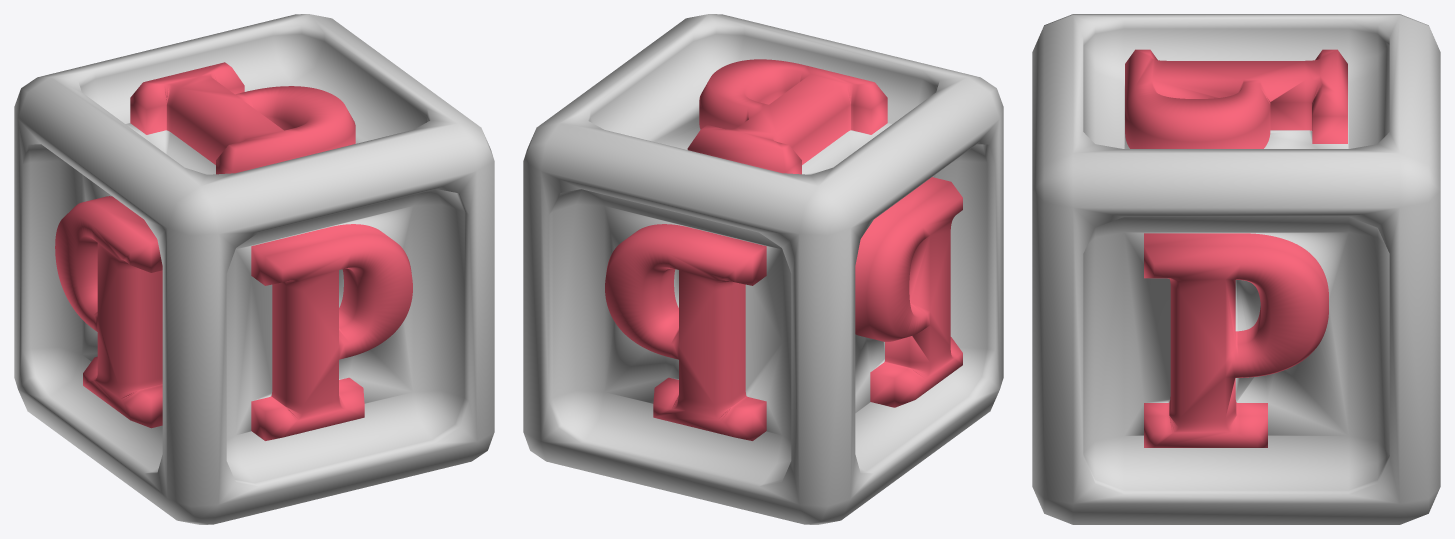
3 views of the same model, side by side, from view 1: azimuth 30°, elevation 25°; view 2: azimuth 150°, elevation 25°; view 3: azimuth 270°, elevation 25° (orthographic). The views are drawn at different scales.
Visible parts, largest first — view 1: obj_0; view 2: obj_0; view 3: obj_0.
Part boxes in pixels (x1=…): obj_0: x1=14, y1=14, x2=494, y2=524; obj_0: x1=523, y1=14, x2=1003, y2=524; obj_0: x1=1032, y1=14, x2=1440, y2=524.
Size of the model in its own units: 100 by 100 by 100.
